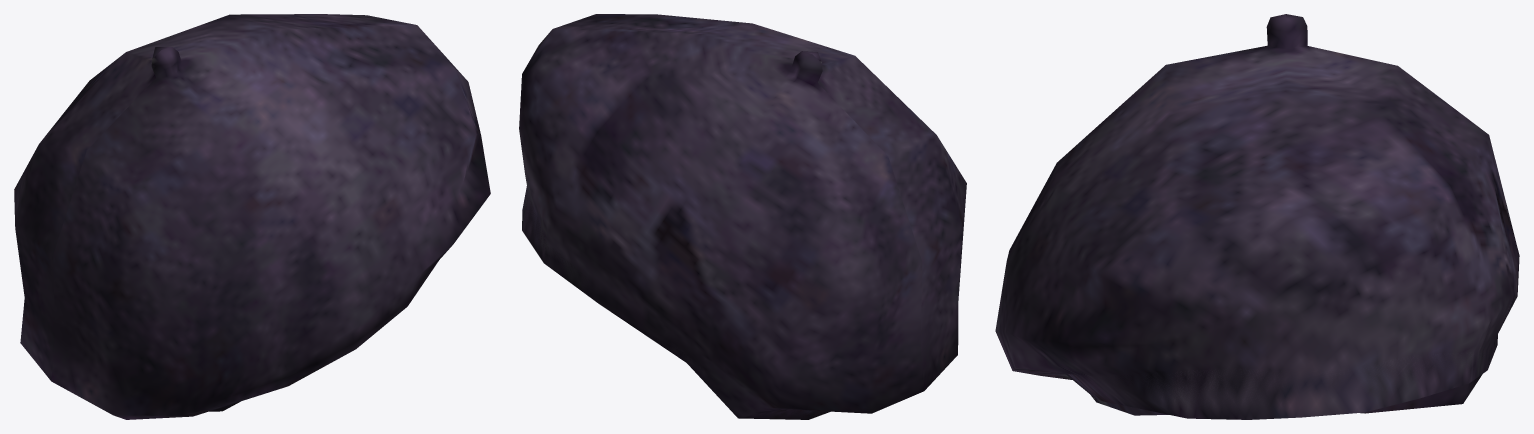
File: hat_0450047.FBX
3 views of the same model, side by side, from view 1: azimuth 30°, elevation 25°; view 2: azimuth 150°, elevation 25°; view 3: azimuth 270°, elevation 25° (orthographic). The views are drawn at different scales.
Visible parts, largest first — view 1: hat_0450047; view 2: hat_0450047; view 3: hat_0450047.
Boxes of the visible parts, x1,y1,x2,y2 form: hat_0450047: (14, 14, 490, 419); hat_0450047: (519, 14, 966, 419); hat_0450047: (995, 14, 1519, 419).
Bounding box in the file's own units: 26.4 × 22.03 × 24.9.
